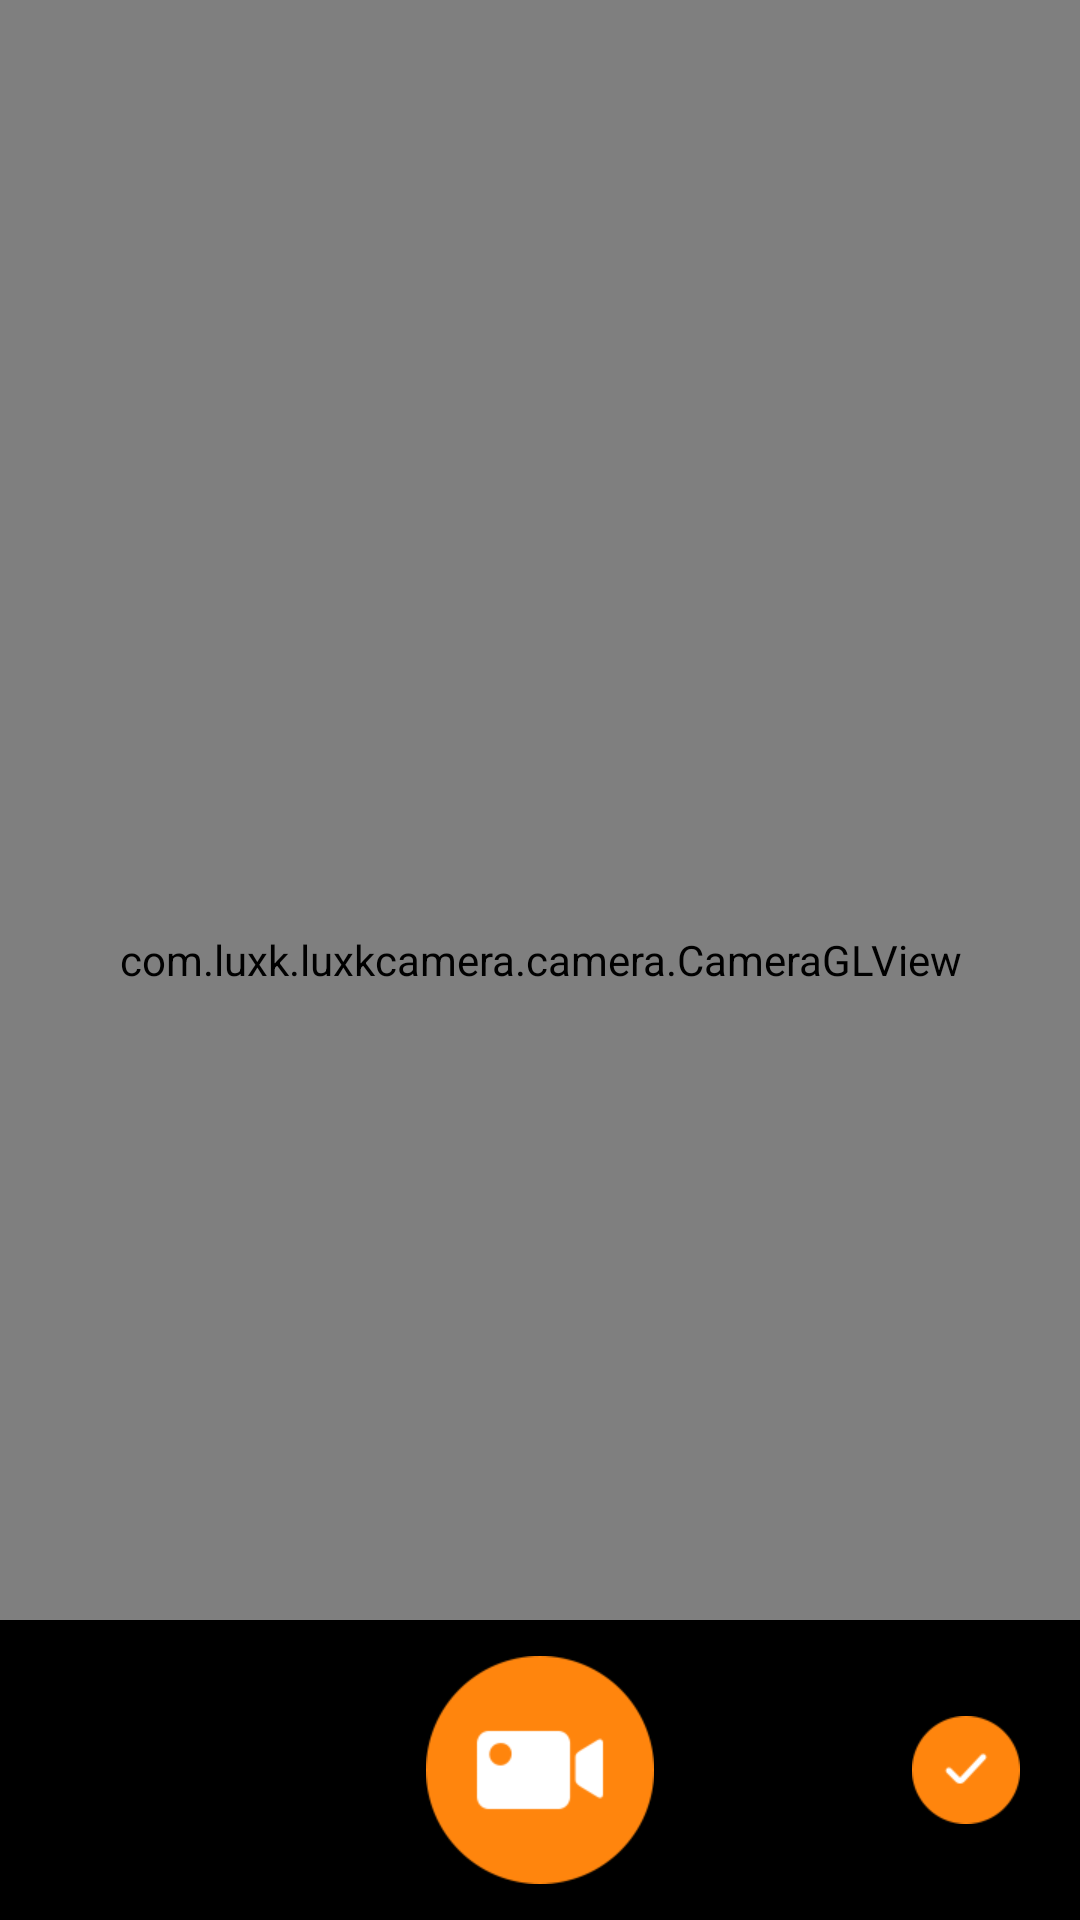

Icons on this 1080 x 1920 Android screen, each with its box as (x1, y1, x2, y2):
finish: (912, 1716, 1020, 1824)
start video: (426, 1656, 654, 1884)
